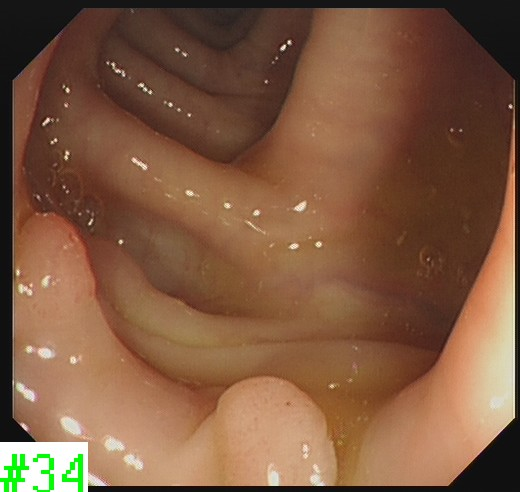adenoma: (18, 209, 98, 322)
